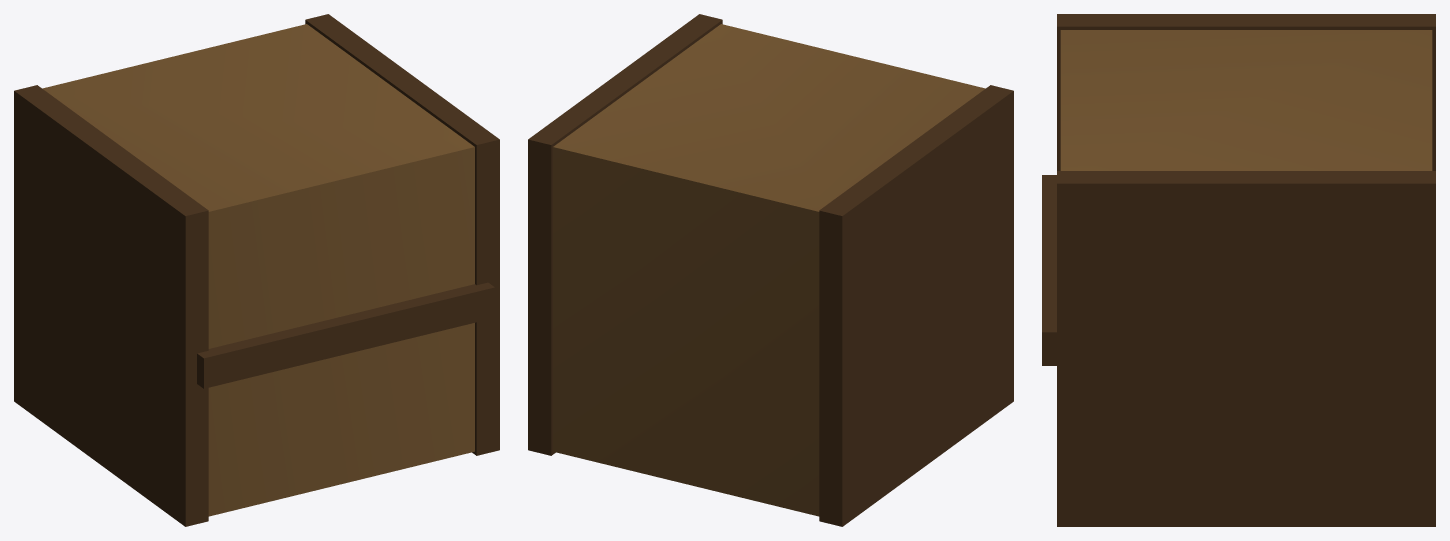
File: caixote.glb
3 renders of one model, left to right at view 1: azimuth 30°, elevation 25°; view 2: azimuth 150°, elevation 25°; view 3: azimuth 270°, elevation 25°, orthographic. The views are drawn at different scales.
Visible parts, largest first — view 1: Prop; view 2: Prop; view 3: Prop.
Boxes of the visible parts, <box> form: Prop: <box>14,14,499,526</box>; Prop: <box>528,14,1013,526</box>; Prop: <box>1042,14,1435,526</box>.
Bounding box in the file's own units: 1.08 × 1.02 × 1.06.
